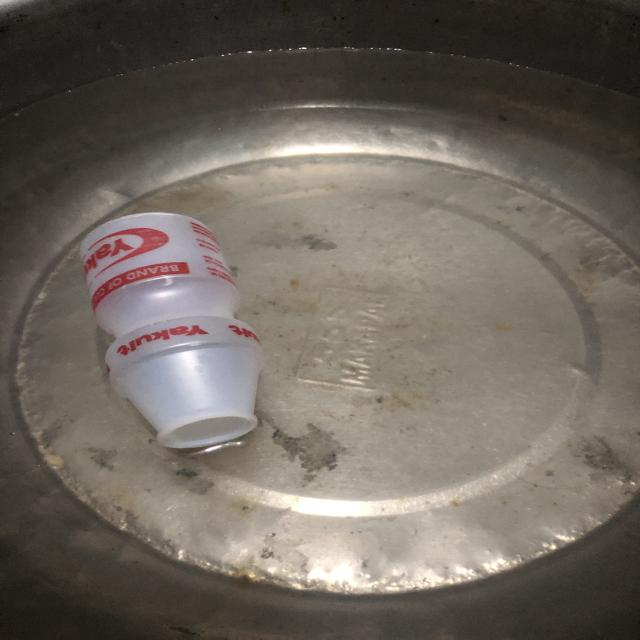Plastic Bottle: (40, 192, 286, 470)
